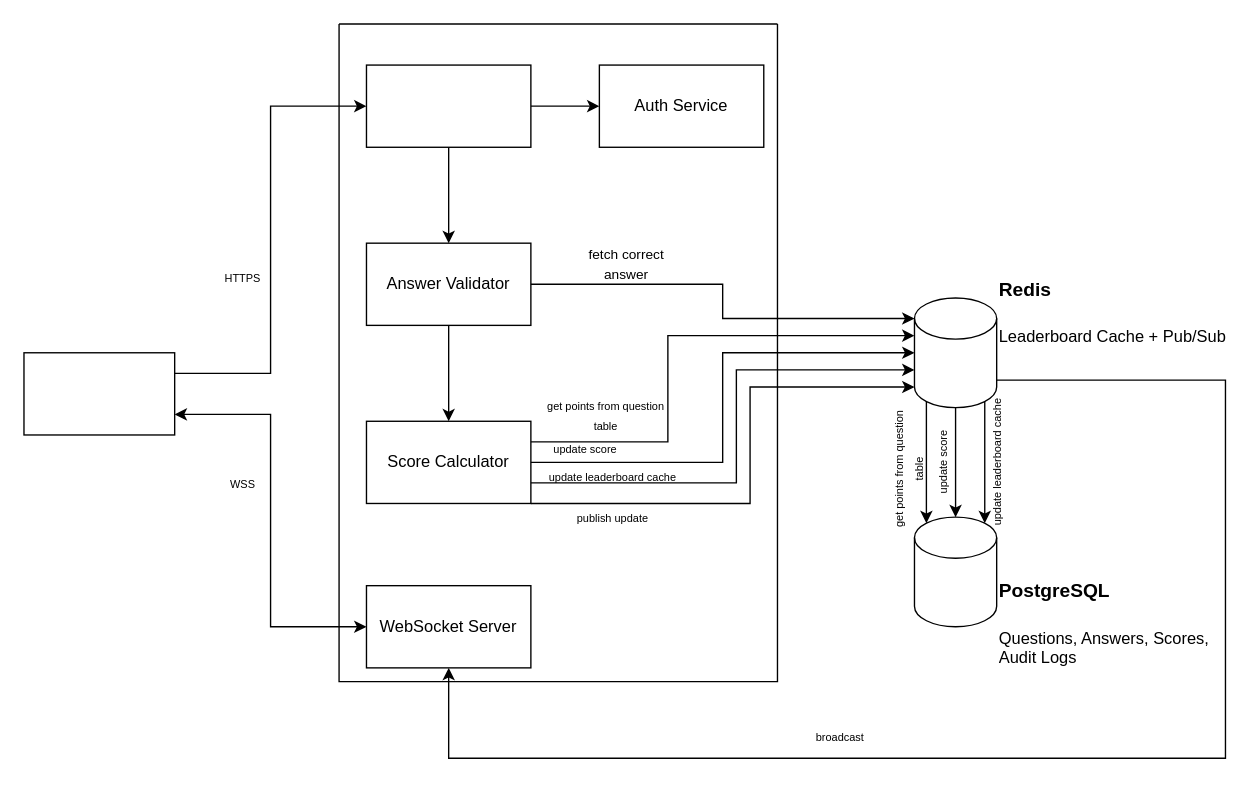
The diagram is 1260 pixels wide and 793 high, and some of its shapes have lost their labels. Each missing label, with the centre of its shape:
"Client(web/mobile)" goes at [99,393].
"REST API Server" goes at [448,105].
